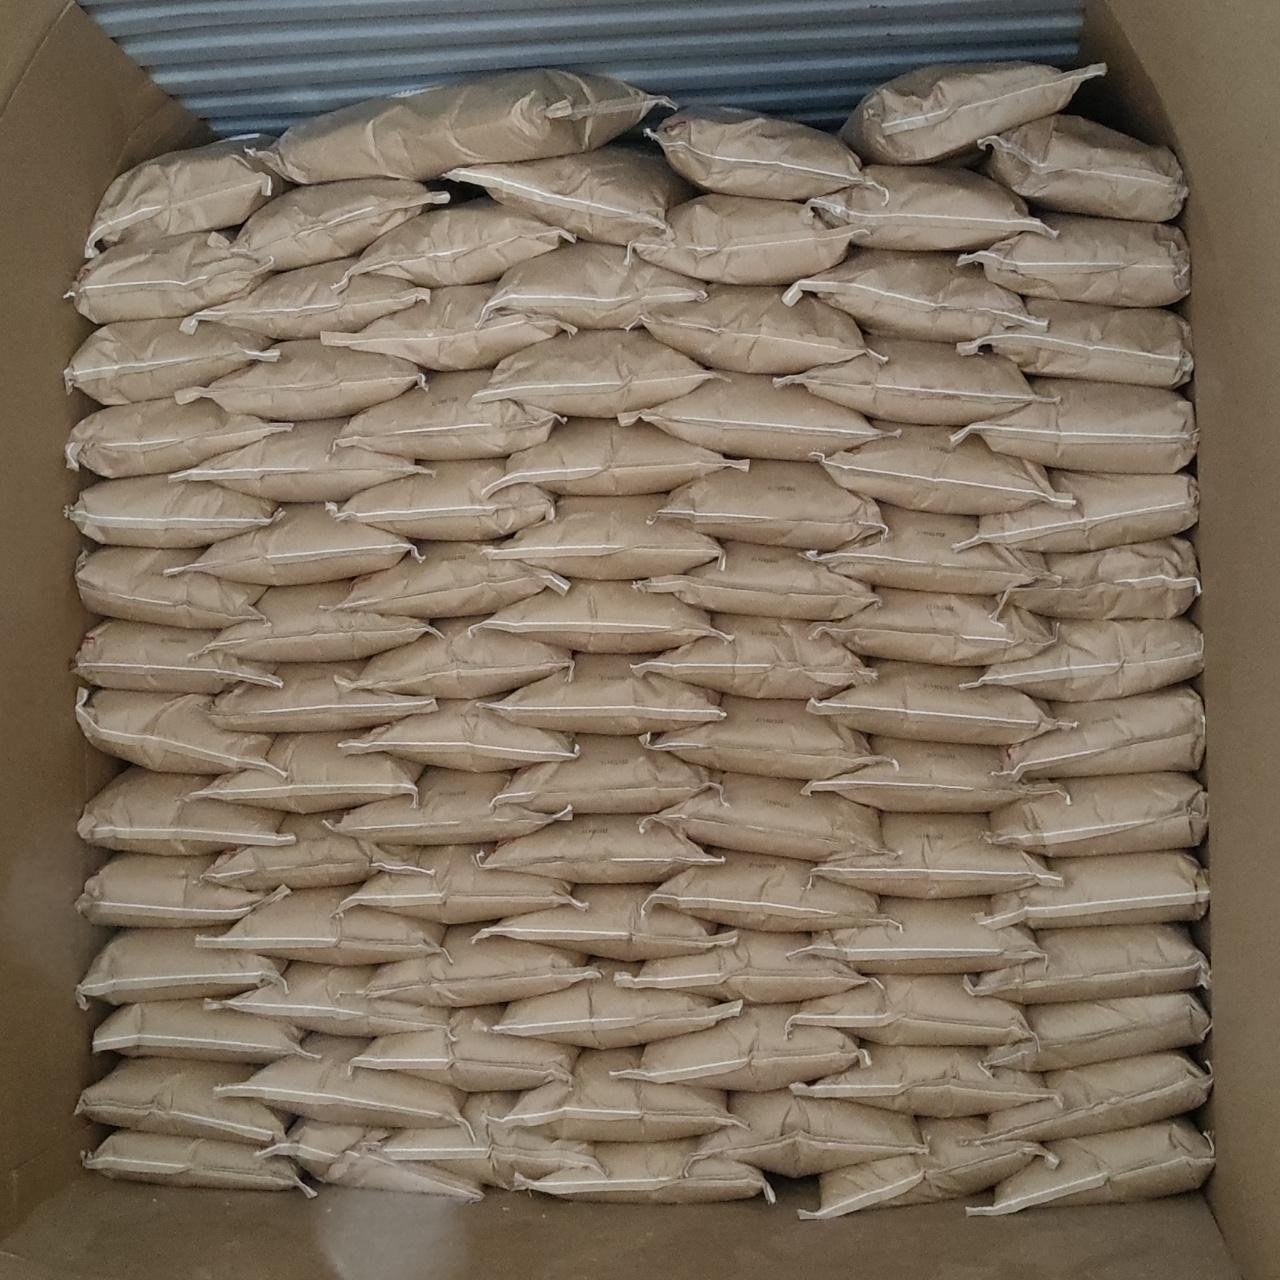sack: (250, 66, 662, 182), (844, 62, 1102, 162), (802, 1118, 1050, 1218), (444, 144, 690, 244), (86, 135, 285, 258), (968, 1118, 1214, 1214), (784, 250, 1030, 342), (778, 336, 1039, 422), (216, 1036, 462, 1126), (620, 374, 880, 458), (960, 377, 1196, 470), (980, 116, 1186, 222), (510, 1048, 738, 1141), (496, 960, 742, 1046), (380, 1094, 598, 1189), (322, 284, 574, 366), (170, 420, 424, 501), (986, 1051, 1212, 1142), (958, 298, 1190, 386), (822, 424, 1060, 510), (958, 215, 1189, 302), (640, 284, 864, 374), (810, 660, 1056, 742), (614, 1005, 864, 1085), (340, 370, 561, 459), (808, 506, 1044, 590), (806, 736, 1064, 812), (806, 166, 1046, 248), (816, 812, 1054, 894), (648, 108, 864, 198), (954, 470, 1198, 550), (184, 258, 428, 338), (629, 195, 847, 284), (658, 774, 881, 860), (478, 331, 712, 414), (968, 618, 1201, 700), (663, 459, 878, 549), (968, 924, 1210, 1002), (176, 342, 424, 418), (232, 181, 444, 270), (1000, 686, 1204, 778), (354, 1006, 576, 1090), (642, 696, 870, 778), (368, 924, 595, 1006), (618, 930, 874, 1002), (354, 200, 572, 286), (196, 888, 444, 964), (697, 1090, 918, 1175), (492, 493, 719, 576), (638, 617, 869, 696), (496, 420, 744, 493), (186, 734, 420, 812), (338, 846, 578, 922), (68, 232, 270, 322), (484, 884, 730, 958), (636, 542, 874, 618), (802, 896, 1040, 972), (79, 1058, 290, 1144), (79, 768, 286, 855), (66, 320, 278, 404), (488, 244, 706, 326), (794, 1044, 1051, 1114), (498, 654, 720, 734), (651, 852, 878, 930), (331, 459, 554, 538), (331, 770, 568, 844), (66, 399, 292, 476), (986, 992, 1208, 1070), (990, 774, 1206, 855), (816, 588, 1051, 662), (258, 1121, 482, 1198), (210, 964, 448, 1036), (980, 850, 1206, 926), (190, 506, 414, 583), (212, 583, 433, 660), (204, 812, 433, 886), (508, 1141, 774, 1204), (352, 618, 570, 694), (496, 736, 714, 812), (488, 580, 720, 652), (340, 700, 576, 770), (76, 688, 270, 774), (340, 542, 566, 614), (790, 976, 1026, 1044), (998, 538, 1198, 618), (79, 928, 286, 1005), (481, 816, 720, 881), (76, 546, 264, 628), (76, 855, 288, 926), (212, 662, 434, 730), (76, 620, 278, 692), (82, 1130, 312, 1192), (68, 476, 278, 544), (91, 1000, 304, 1062)
